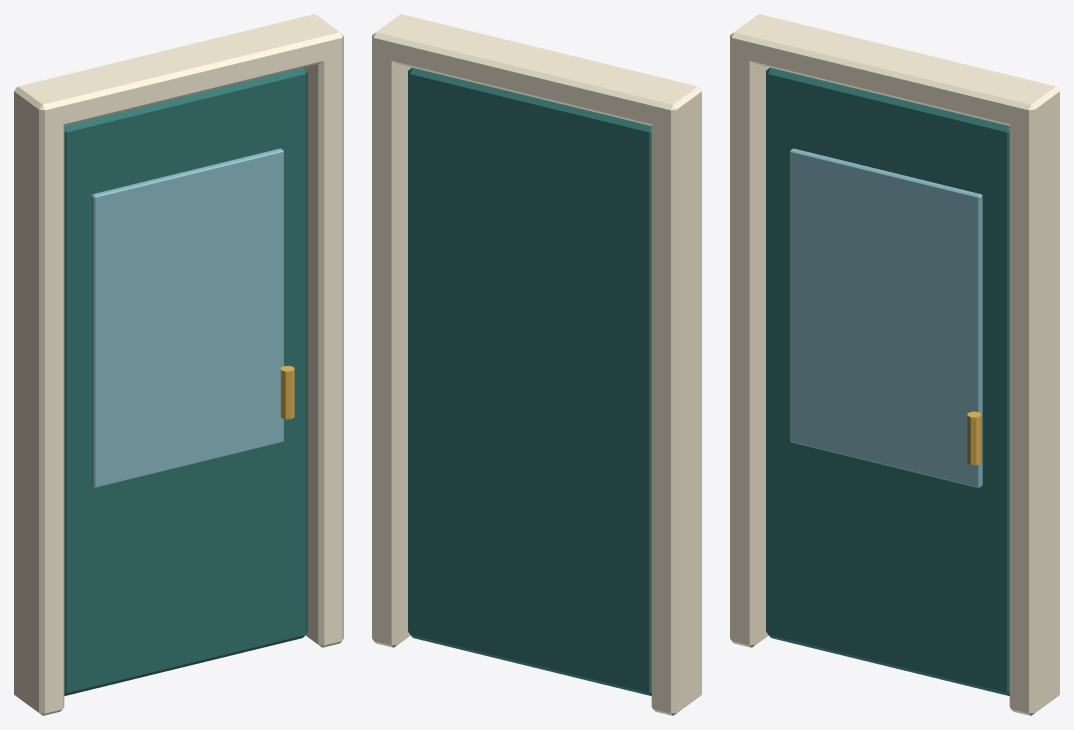
The model's file is Door_1m.fbx.
3 views of the same model, side by side, from view 1: azimuth 30°, elevation 25°; view 2: azimuth 150°, elevation 25°; view 3: azimuth 330°, elevation 25° (orthographic).
Visible parts, largest first — view 1: Door.002, Glass.002, Frame.007, Frame.008, FrameTop, Handle.010; view 2: Door.002, Frame.007, Frame.008, FrameTop; view 3: Door.002, Glass.002, Frame.008, Frame.007, FrameTop, Handle.010.
Boxes of the visible parts, box(x1,y1,x2,y2) form: Door.002: box(64, 67, 307, 695); Glass.002: box(91, 148, 283, 487); Frame.007: box(14, 87, 64, 715); Frame.008: box(304, 34, 343, 647); FrameTop: box(14, 14, 343, 128); Handle.010: box(280, 365, 294, 419); Door.002: box(408, 67, 651, 695); Frame.007: box(651, 88, 701, 715); Frame.008: box(372, 33, 411, 647); FrameTop: box(372, 14, 701, 128); Door.002: box(766, 67, 1009, 695); Glass.002: box(790, 148, 982, 487); Frame.008: box(1009, 89, 1059, 715); Frame.007: box(730, 36, 769, 647); FrameTop: box(730, 14, 1059, 128); Handle.010: box(967, 411, 981, 465).
Size of the model in its own units: 1.2 by 2.3 by 0.225.
